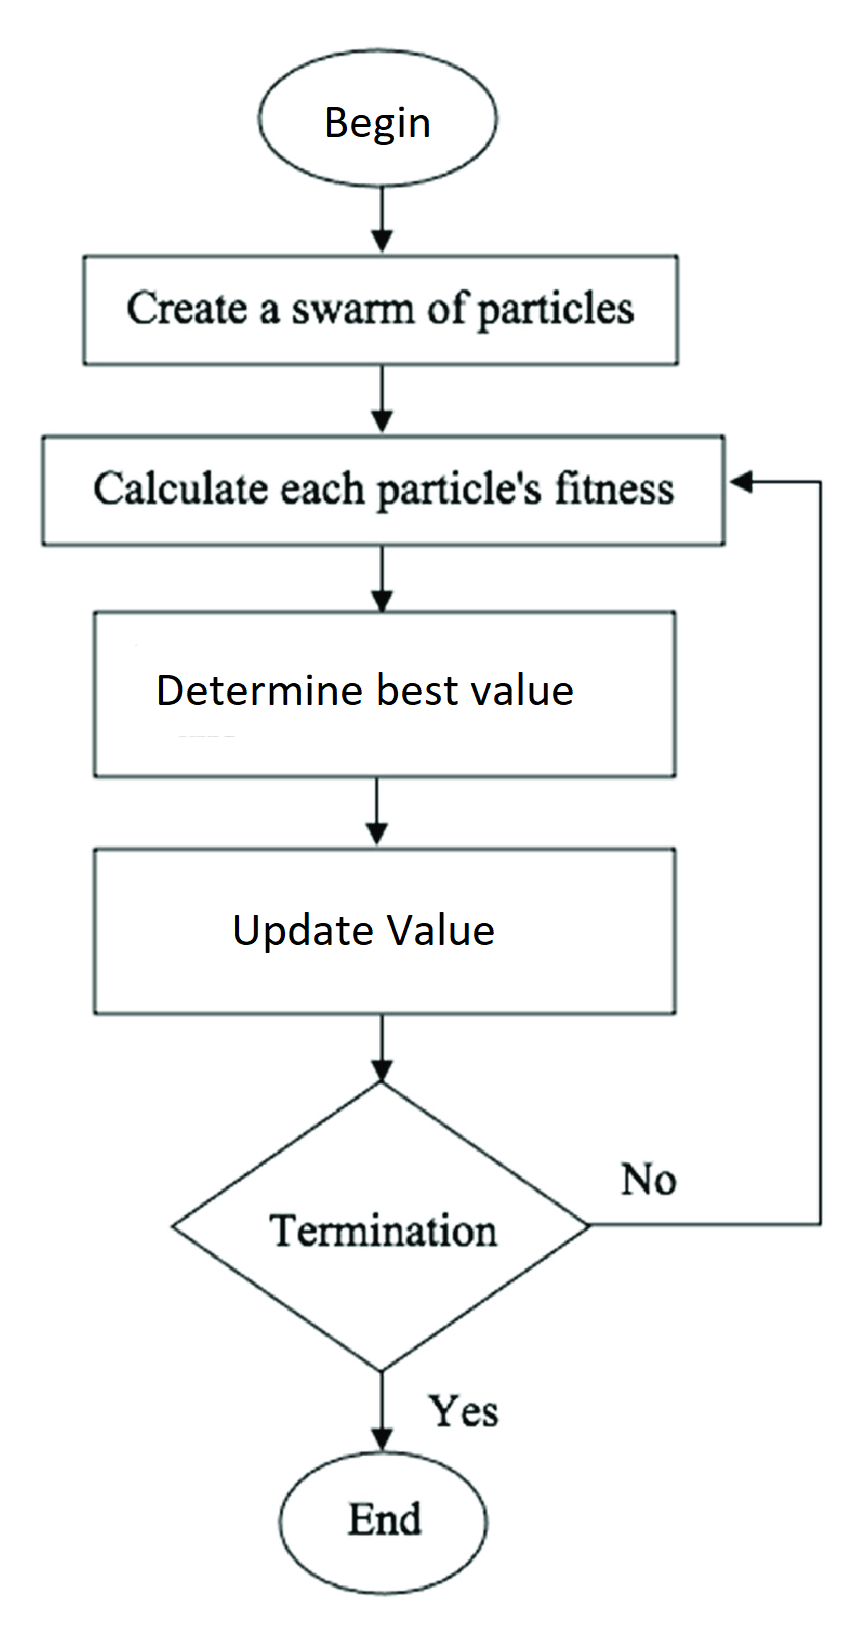arrow: (581, 465, 831, 1235), (369, 1363, 401, 1453), (364, 179, 399, 260), (366, 355, 399, 438), (362, 770, 396, 848), (366, 534, 399, 613), (369, 1005, 399, 1085)
decision: (164, 1078, 594, 1378)
process: (86, 838, 686, 1023), (89, 603, 689, 785), (36, 428, 736, 555), (76, 245, 686, 373)
terminator: (251, 40, 504, 192), (274, 1445, 491, 1600)
text: (91, 460, 681, 518), (121, 283, 646, 340), (151, 668, 576, 715), (229, 905, 501, 950), (264, 1206, 501, 1255), (318, 98, 436, 149), (344, 1498, 429, 1543), (429, 1385, 501, 1435), (611, 1153, 681, 1200)
